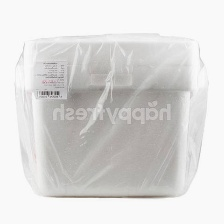foam_box: (9, 25, 213, 203)
